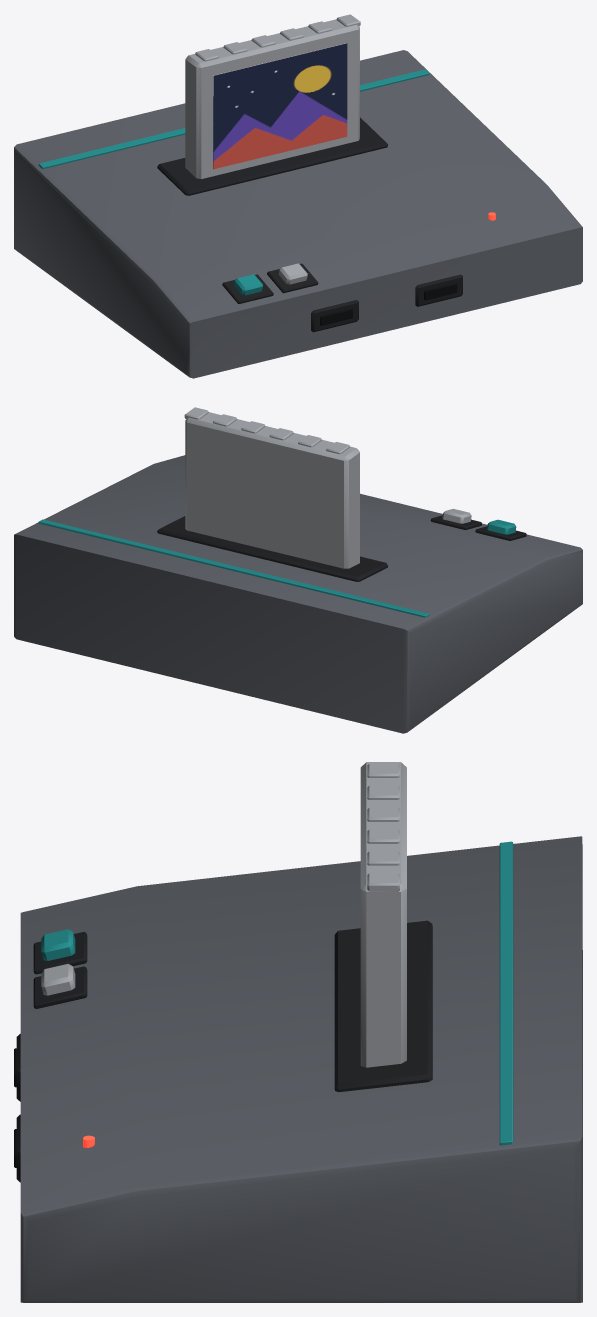
File: retro-cartridge-console.glb
3 renders of one model, top to bottom at view 1: azimuth 30°, elevation 25°; view 2: azimuth 150°, elevation 25°; view 3: azimuth 270°, elevation 25°, orthographic. The views are drawn at different scales.
Parts seen in each view (by area): view 1: Console, Cartridge; view 2: Console, Cartridge; view 3: Console, Cartridge.
Part boxes in pixels (x1,y1,x2,y2): Console: [14, 50, 582, 378]; Cartridge: [185, 14, 360, 179]; Console: [14, 455, 582, 733]; Cartridge: [184, 407, 359, 568]; Console: [14, 836, 582, 1302]; Cartridge: [360, 762, 406, 1067].
Bounding box in the file's own units: 0.266 × 0.1357 × 0.2085.
Materials: 8 (1 with a texture image).
